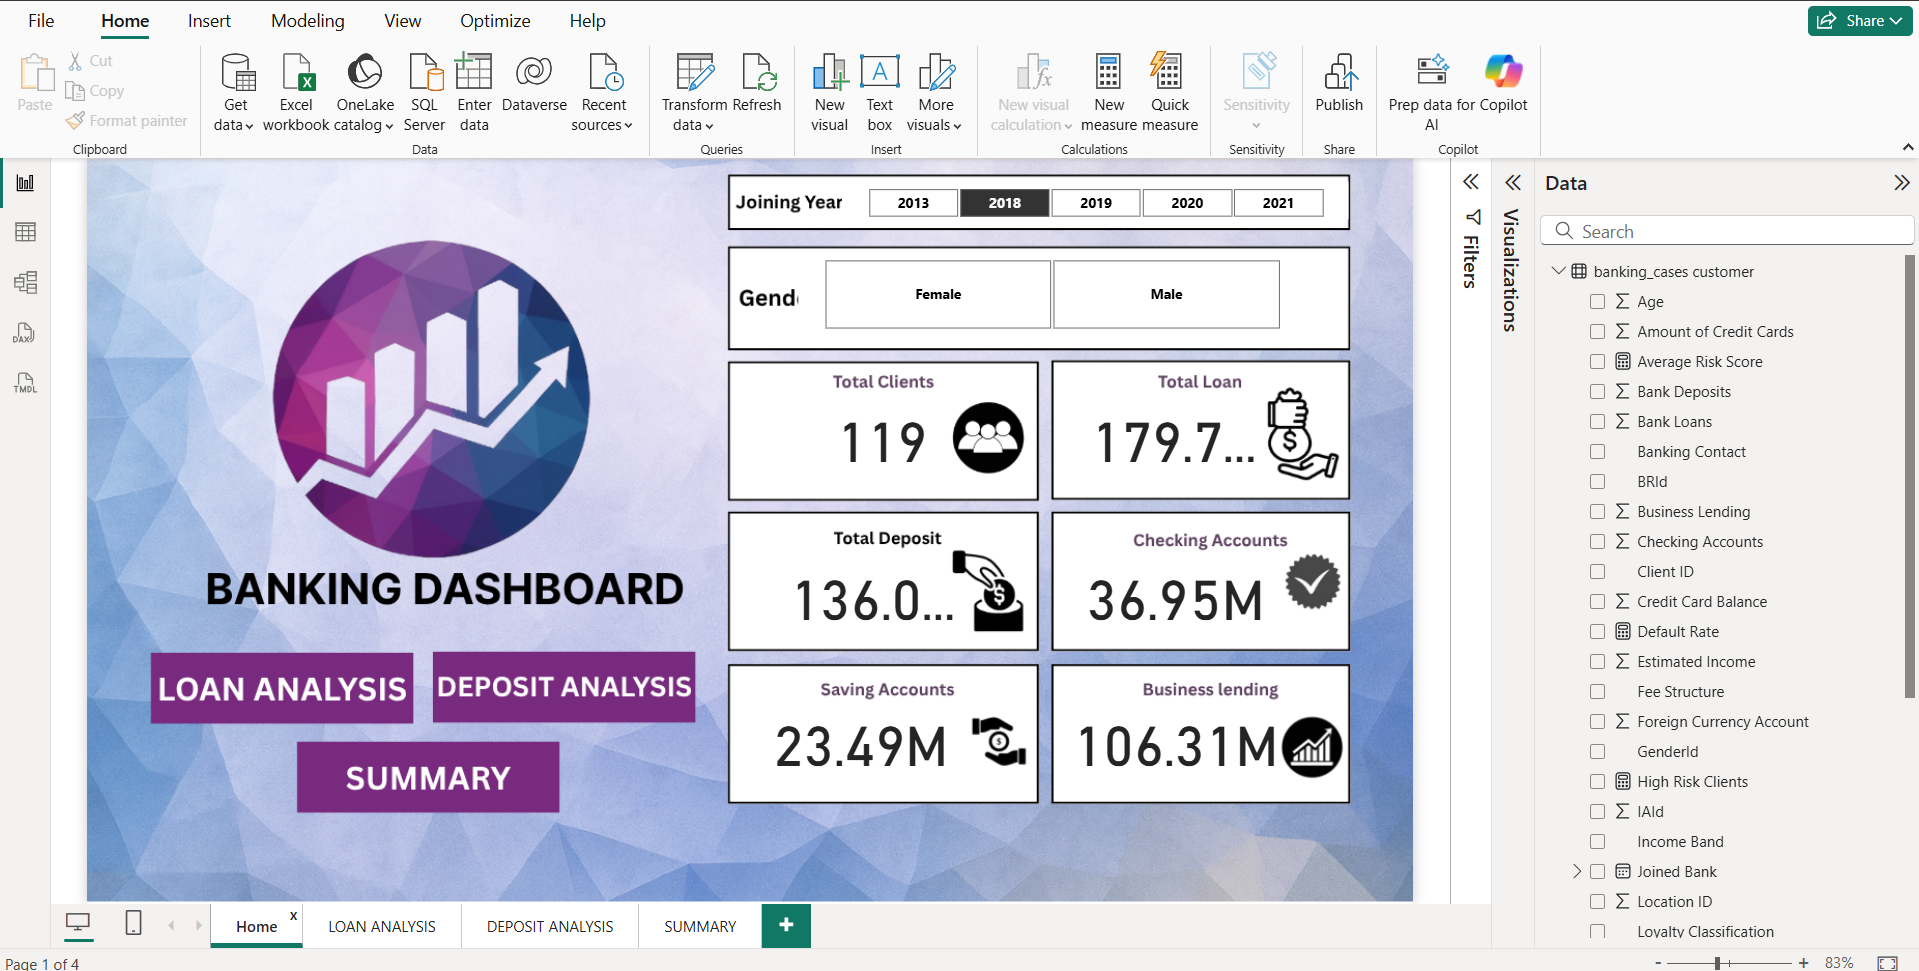

Layout of this report page (visuals, bound fields, positions):
{"tool":"powerbi","page":{"name":"Home","canvas":[1280,720],"ordinal":0},"visuals":[{"type":"actionButton","box":[61.7,474.8,252.5,70],"z":0},{"type":"actionButton","box":[332.1,476.2,258,70],"z":1000},{"type":"actionButton","box":[204.5,561.2,251.1,70],"z":2000},{"type":"card","fields":{"Values":["banking_cases customer.Name"]},"box":[686.1,226.4,161.9,82.3],"z":3000},{"type":"card","fields":{"Values":["banking_cases customer.Total loan"]},"box":[959.2,226.4,179.8,82.3],"z":4000},{"type":"card","fields":{"Values":["banking_cases customer.Total Deposit"]},"box":[668.3,378.7,179.8,82.3],"z":5000},{"type":"card","fields":{"Values":["banking_cases customer.Checking Accounts"]},"box":[944.1,378.7,212.7,82.3],"z":6000},{"type":"slicer","fields":{"Values":["banking_cases customer.Year of Joining"]},"box":[728.6,23.3,488.5,35.7],"z":7000},{"type":"slicer","fields":{"Values":["banking_cases customer.GenderId"]},"box":[686.1,91.9,488.5,79.6],"z":8000},{"type":"card","fields":{"Values":["banking_cases customer.Saving Accounts"]},"box":[639.5,520.1,215.4,82.3],"z":9000},{"type":"card","fields":{"Values":["banking_cases customer.Business Lending"]},"box":[944.1,520.1,212.7,82.3],"z":10000}]}

Visuals, with their boxes on the page's 1280x720 design canvas (x1, y1, x2, y2). These are canvas units, not pixel positions in the 1919x971 screenshot, which may show the page scaled, cropped or inside an application window:
actionButton: crop(62, 475, 314, 545)
actionButton: crop(332, 476, 590, 546)
actionButton: crop(204, 561, 456, 631)
card - banking_cases customer.Name: crop(686, 226, 848, 309)
card - banking_cases customer.Total loan: crop(959, 226, 1139, 309)
card - banking_cases customer.Total Deposit: crop(668, 379, 848, 461)
card - banking_cases customer.Checking Accounts: crop(944, 379, 1157, 461)
slicer - banking_cases customer.Year of Joining: crop(729, 23, 1217, 59)
slicer - banking_cases customer.GenderId: crop(686, 92, 1175, 172)
card - banking_cases customer.Saving Accounts: crop(640, 520, 855, 602)
card - banking_cases customer.Business Lending: crop(944, 520, 1157, 602)
